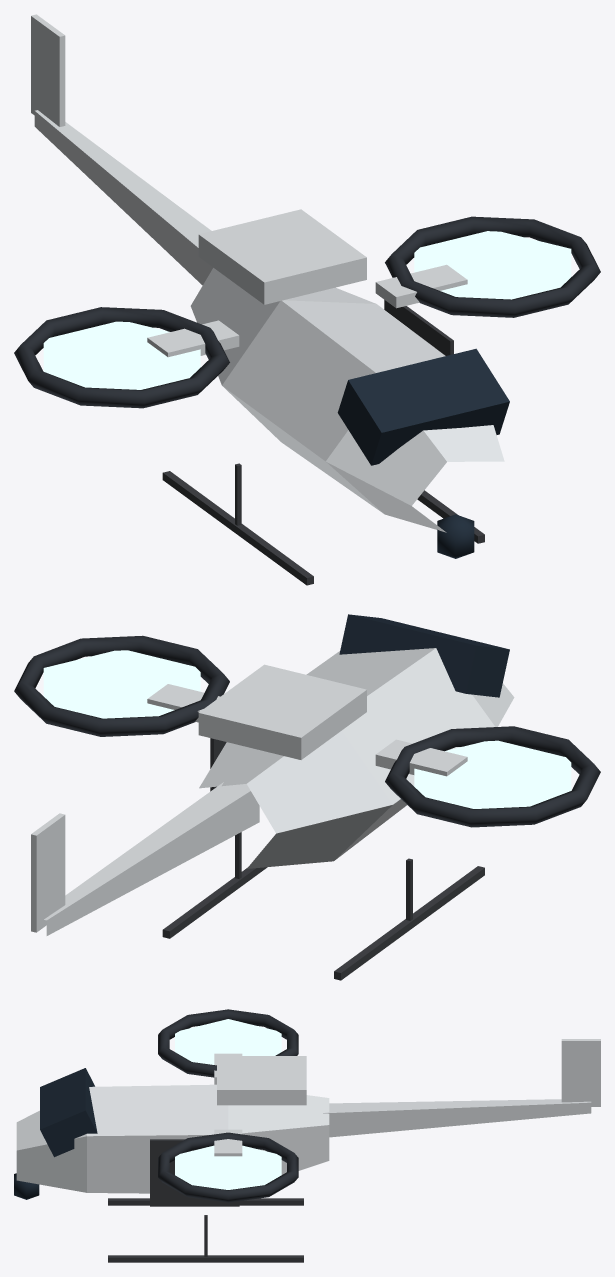
Rendered from veh_air_heli_transport_a09_lod1.glb.
3 renders of one model, top to bottom at view 1: azimuth 30°, elevation 25°; view 2: azimuth 150°, elevation 25°; view 3: azimuth 270°, elevation 25°, orthographic. The views are drawn at different scales.
Parts seen in each view (by area): view 1: body, rotor_r, rotor_l, door; view 2: body, rotor_r, rotor_l; view 3: body, rotor_l, rotor_r, door.
Boxes of the visible parts, x1,y1,x2,y2 form: body: (31,14,509,585); rotor_r: (14,307,229,408); rotor_l: (385,216,600,317); door: (384,300,453,355); body: (31,614,514,980); rotor_r: (385,726,600,827); rotor_l: (14,635,229,736); body: (14,1039,600,1262); rotor_l: (158,1132,298,1202); rotor_r: (158,1009,298,1077); door: (150,1139,239,1206).
Bounding box in the file's own units: 7.84 × 3.8 × 10.48.
